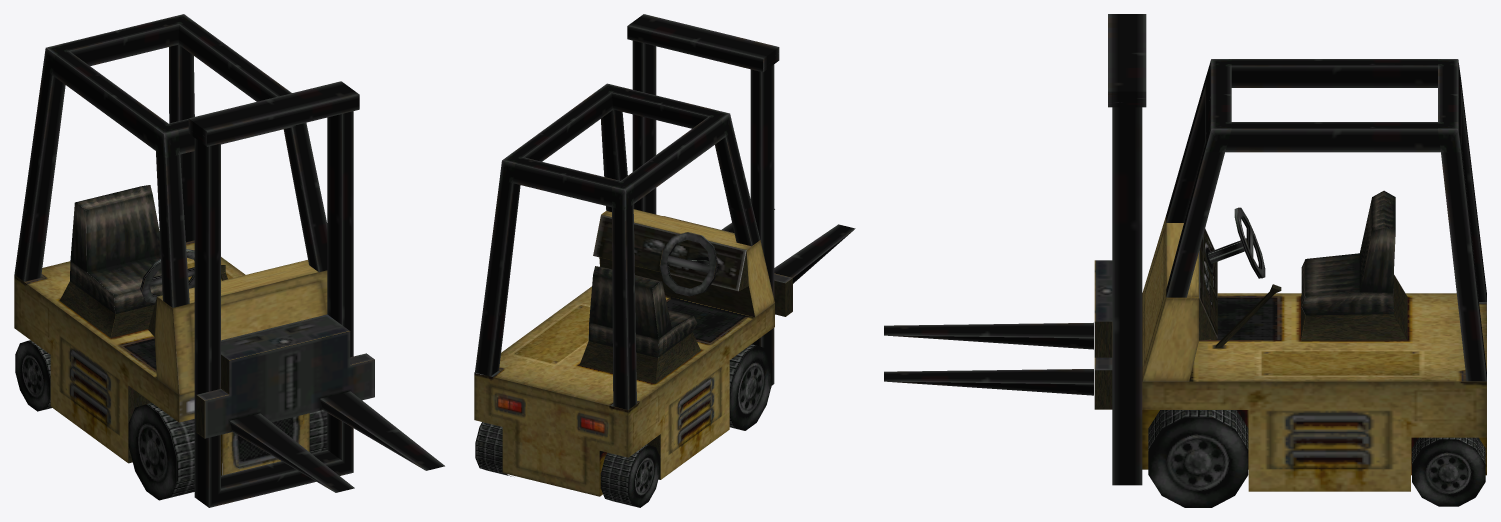
The model's file is FORKLIFT.glb.
3 renders of one model, left to right at view 1: azimuth 30°, elevation 25°; view 2: azimuth 150°, elevation 25°; view 3: azimuth 270°, elevation 25°, orthographic. The views are drawn at different scales.
Visible parts, largest first — view 1: FORKLIFT; view 2: FORKLIFT; view 3: FORKLIFT.
Part boxes in pixels (left/top/right/bottom): FORKLIFT: left=14, top=14, right=444, bottom=507; FORKLIFT: left=474, top=14, right=855, bottom=507; FORKLIFT: left=884, top=14, right=1486, bottom=507.
Size of the model in its own units: 1.37 by 2.93 by 3.9.
Materials: 1 (1 with a texture image).
